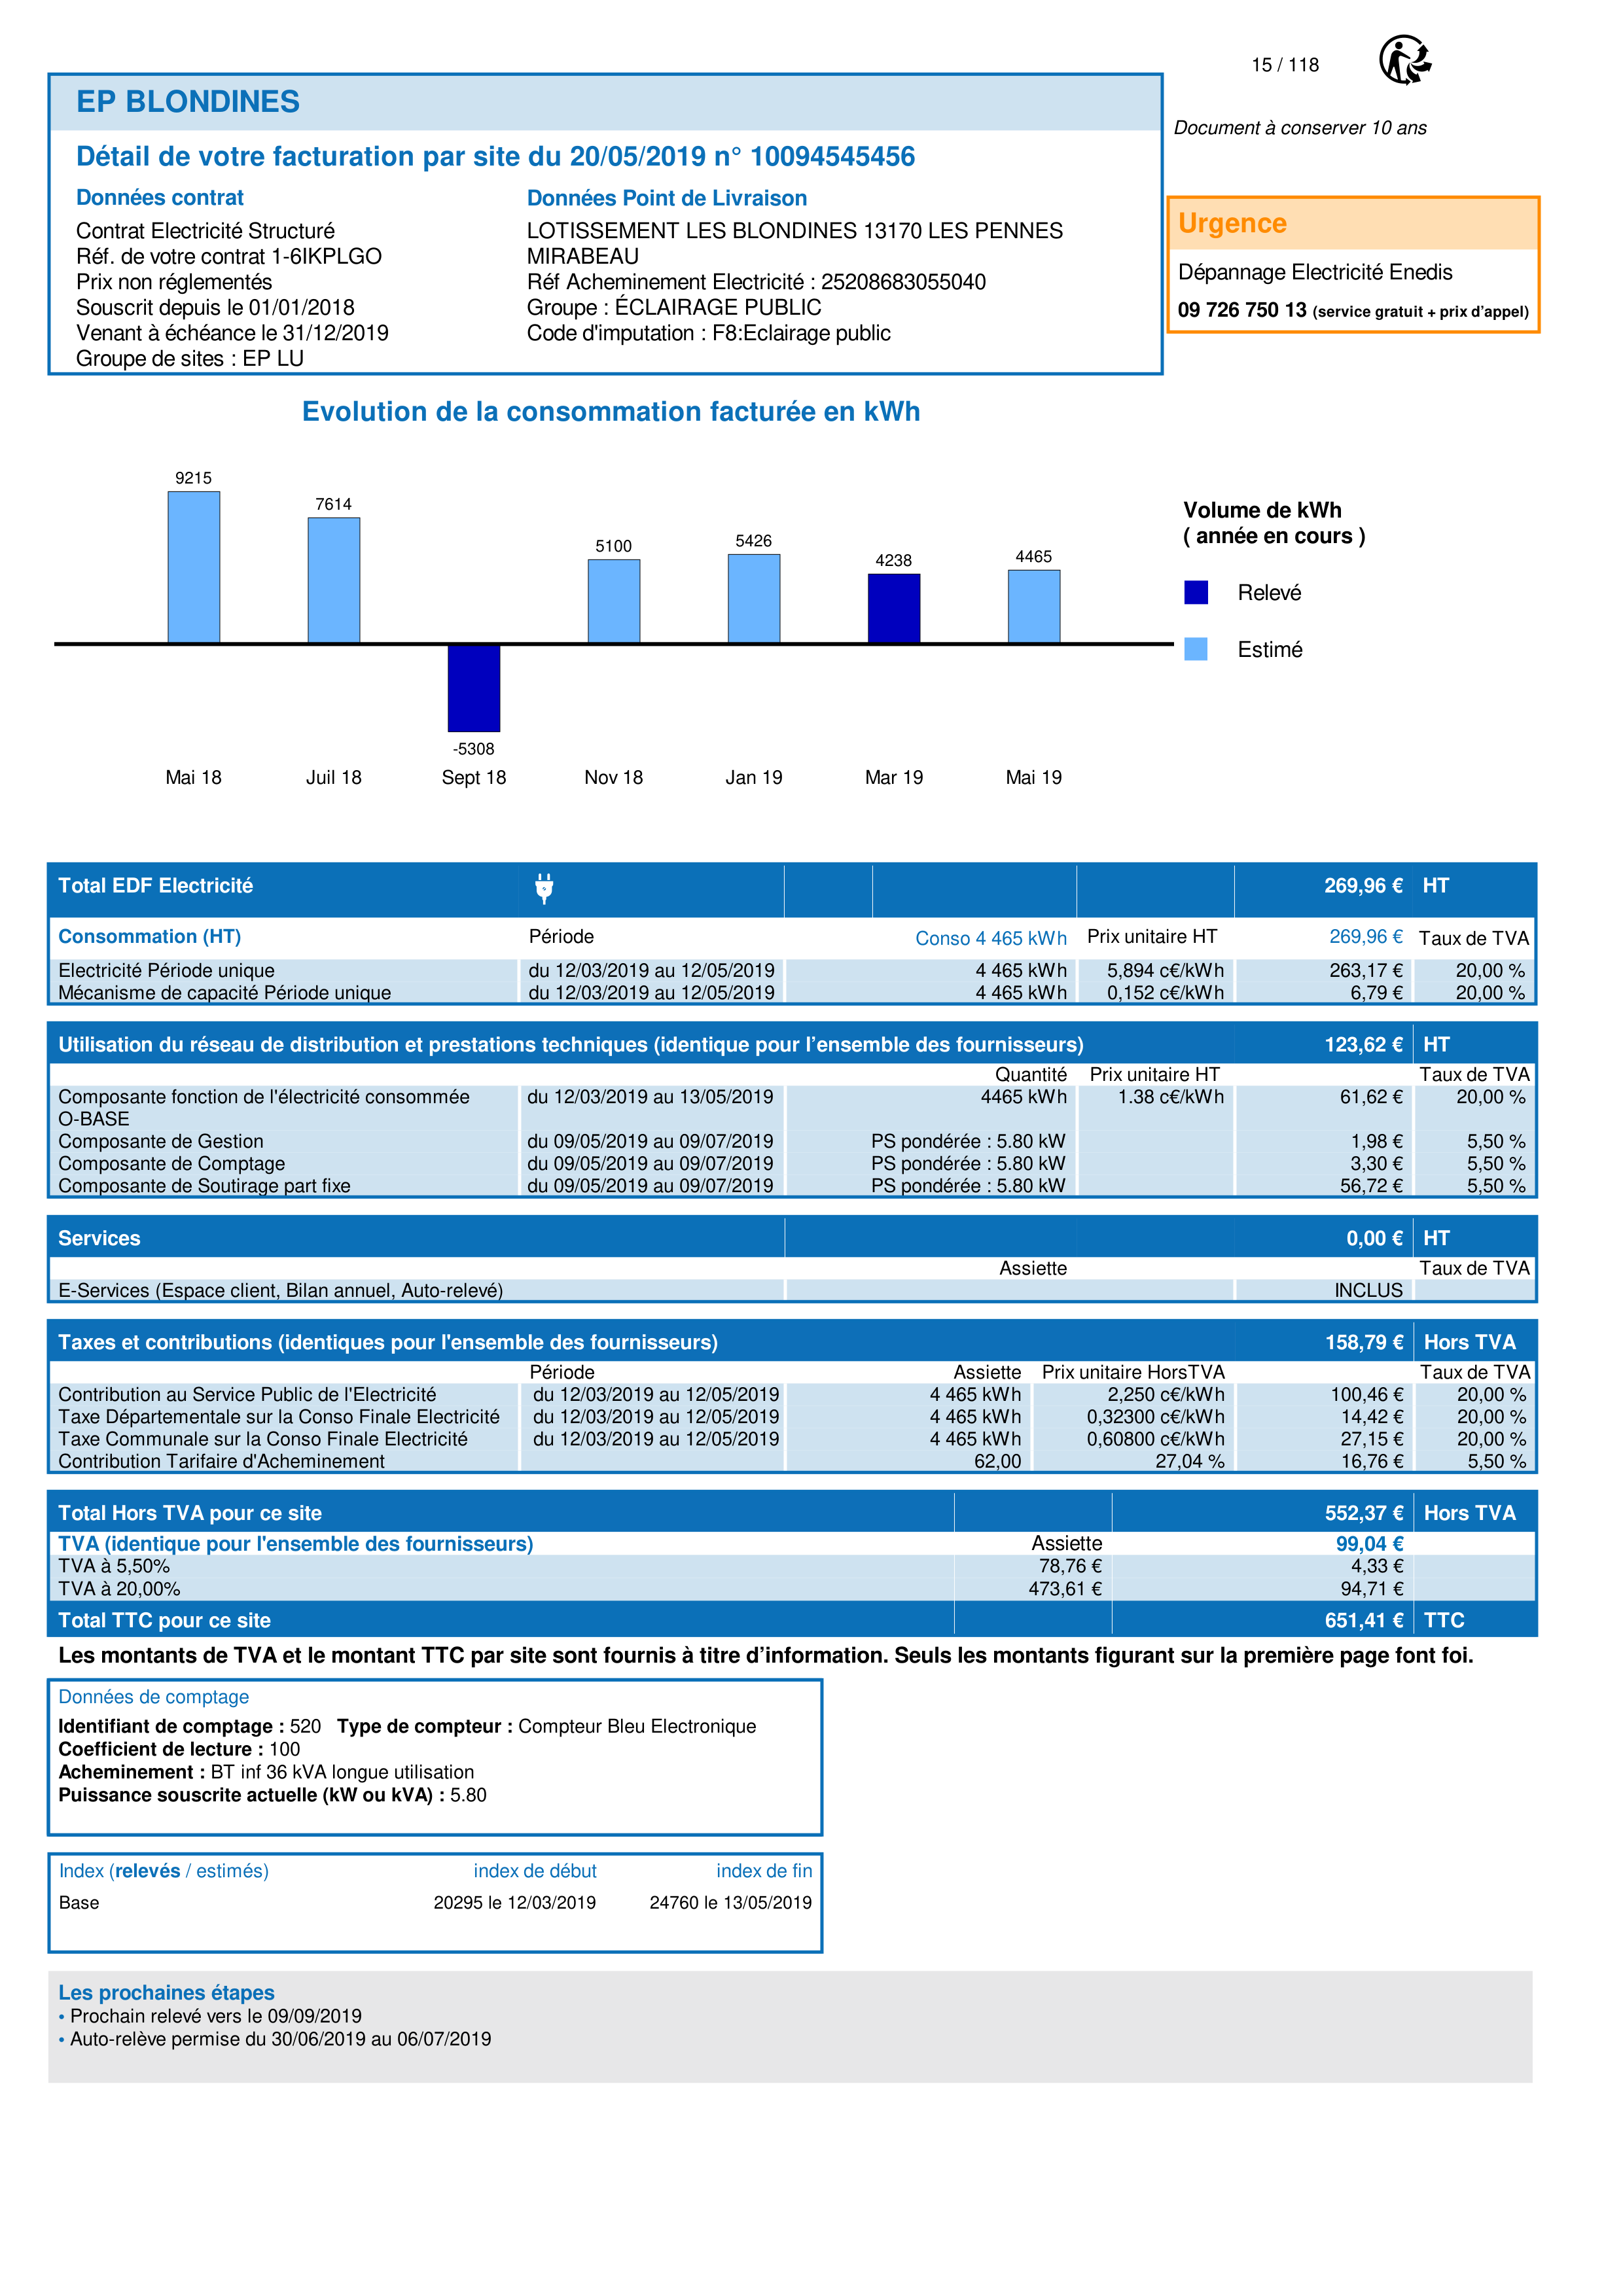area: (47, 1854, 823, 1952)
type_indicator: (48, 1854, 283, 1886)
